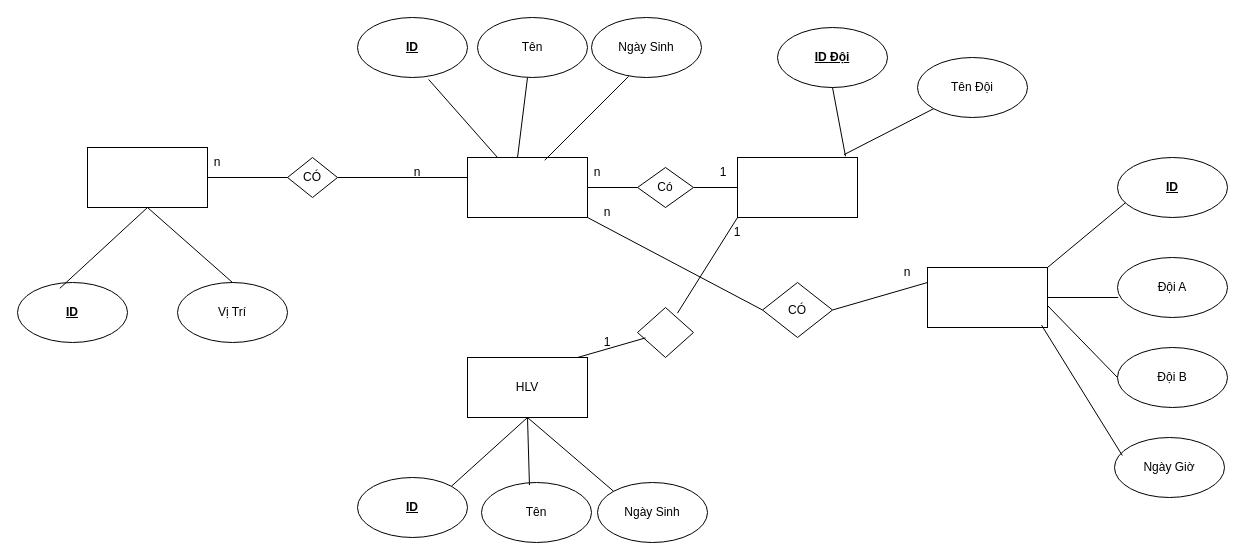
The diagram is 1245 pixels wide and 560 high, and some of its shapes have lost their labels. The shapes that lost their labels are listed below. From the top down, each one's centre as x and y in pixels, then its label:
the point at 147,177: vị trí cầu thủ
the point at 527,187: Cầu Thủ
the point at 797,187: Đội
the point at 987,297: Trận Đấu
the point at 665,332: huấn luyện
